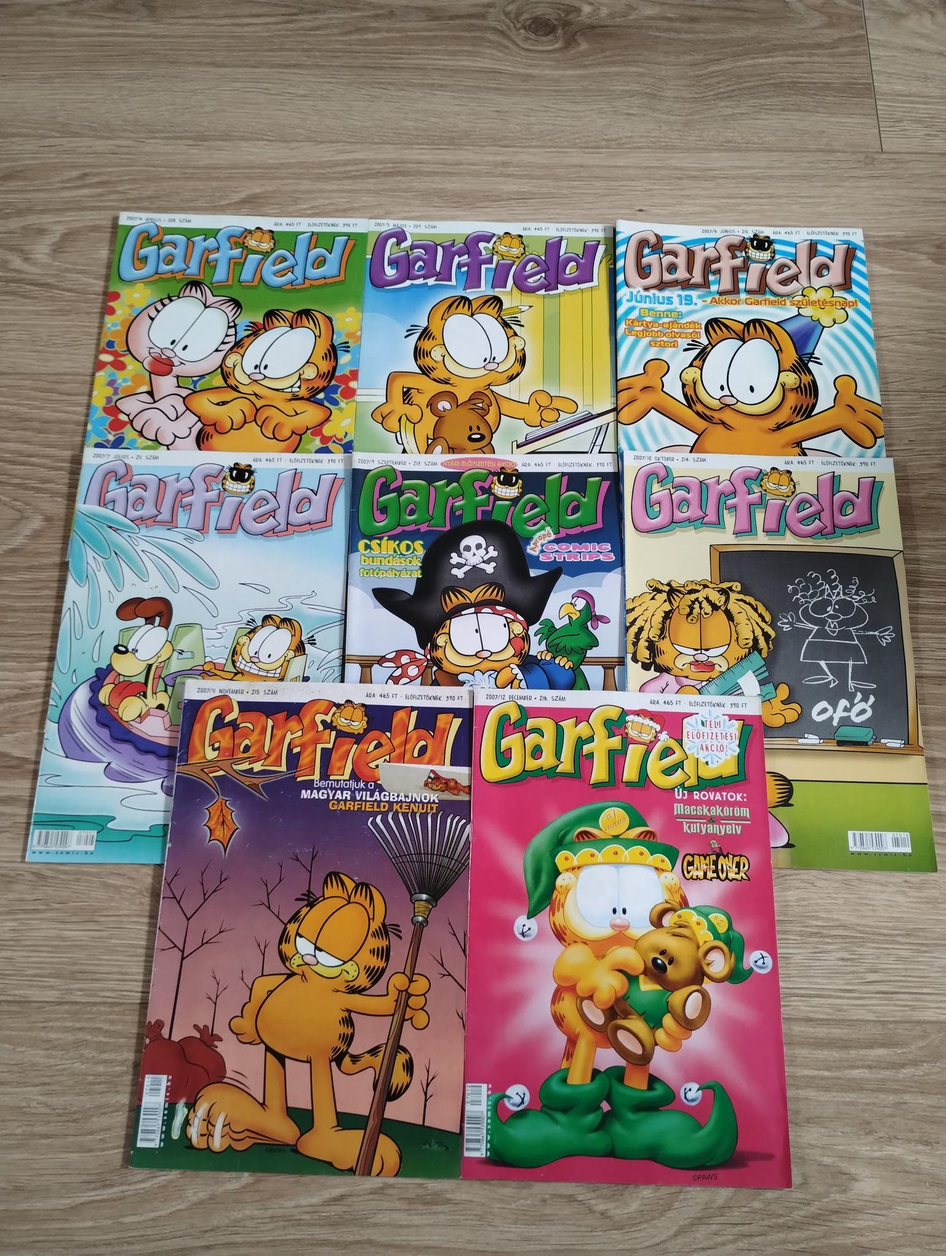comic: (131, 678, 477, 1179), (463, 689, 801, 1187), (27, 422, 369, 895), (624, 448, 935, 875), (86, 201, 369, 465), (345, 453, 626, 690), (616, 221, 883, 458), (355, 220, 618, 457)
